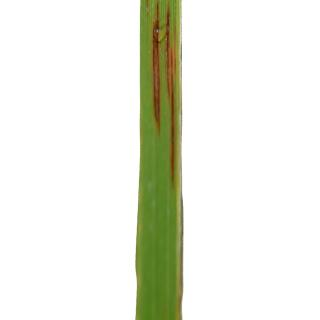Bercak-Cokelat-Sempit: (141, 0, 183, 203)
